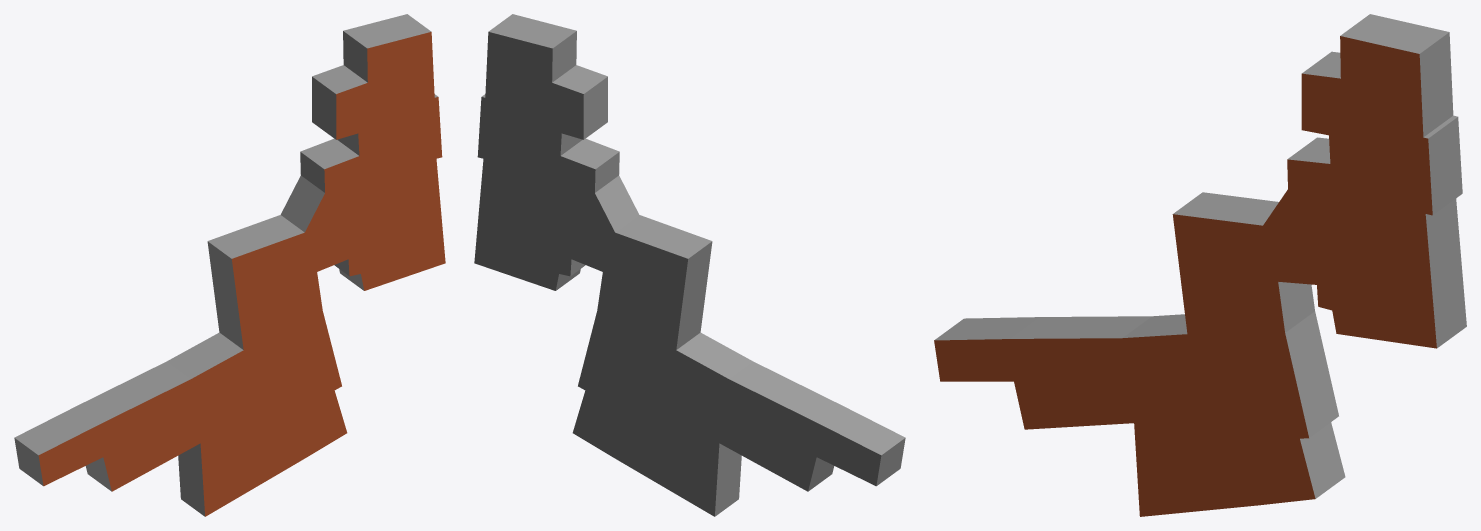
Rendered from construction_3978_assumed_A_Casa_h6m.obj.
3 renders of one model, left to right at view 1: azimuth 30°, elevation 25°; view 2: azimuth 150°, elevation 25°; view 3: azimuth 330°, elevation 25°, orthographic. The views are drawn at different scales.
Visible parts, largest first — view 1: construction_3978_assumed_A_Casa; view 2: construction_3978_assumed_A_Casa; view 3: construction_3978_assumed_A_Casa.
Part boxes in pixels (x1=…): construction_3978_assumed_A_Casa: x1=14, y1=14, x2=445, y2=516; construction_3978_assumed_A_Casa: x1=474, y1=14, x2=905, y2=516; construction_3978_assumed_A_Casa: x1=934, y1=14, x2=1466, y2=516.
Bounding box in the file's own units: 58.12 × 58.66 × 6.
